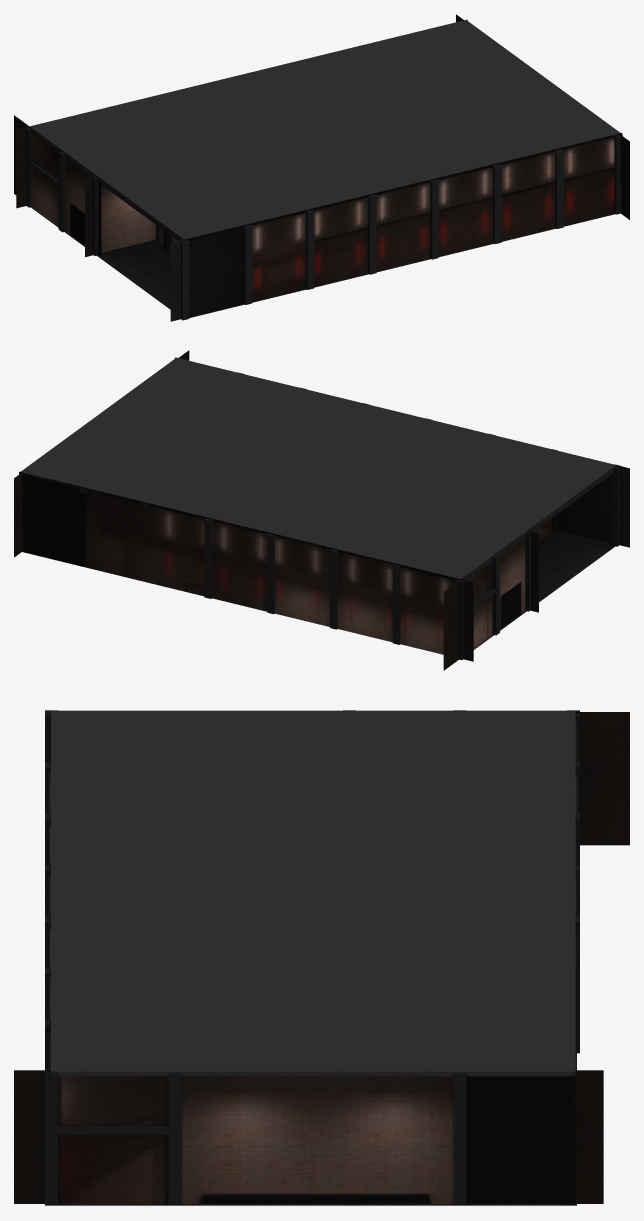
3 renders of one model, top to bottom at view 1: azimuth 30°, elevation 25°; view 2: azimuth 150°, elevation 25°; view 3: azimuth 270°, elevation 25°, orthographic. The views are drawn at different scales.
Visible parts, largest first — view 1: bakefaked; view 2: bakefaked; view 3: bakefaked.
Part boxes in pixels (x1=…): bakefaked: x1=14, y1=14, x2=629, y2=321; bakefaked: x1=14, y1=350, x2=629, y2=670; bakefaked: x1=14, y1=710, x2=629, y2=1205.
Bounding box in the file's own units: 85.47 × 14.35 × 59.55.
Materials: 1 (1 with a texture image).
